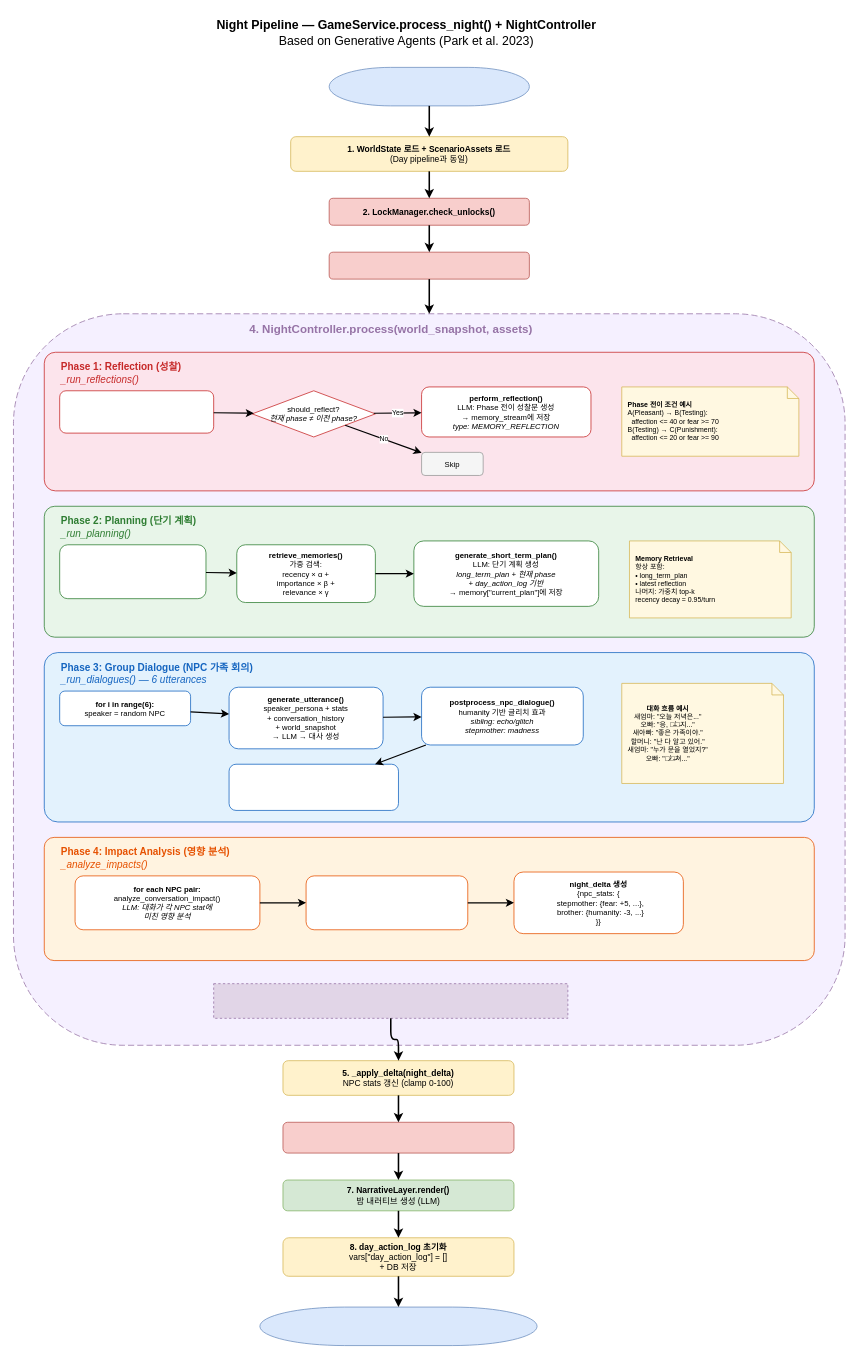
Some shapes in this 859 by 1359 pixel diagram are drawn without their labels. Here are the shapes that lost their labels. From the top down, the centre of each, then its label:
(x=428, y=86): POST /v1/game/{id}/night NightRequestBody
(x=428, y=265): 3. StatusEffectManager.tick()
(x=136, y=411): for each NPC: determine_current_phase (npc.phases, npc.stats)
(x=132, y=571): format_agenda_items day_action_log 분석 [치명적]/[위험] 태깅 (NPC triggers 기반)
(x=313, y=786): store_dialogue_memories() 모든 NPC memory_stream에 대화 기록 저장 type: MEMORY_DIALOGUE
(x=386, y=902): parse_stat_changes_text() 동적 regex 파싱 stat_names 기반 → npc_stats delta 누적
(x=390, y=1000): → NightResult { night_delta, night_conversation, night_description }
(x=398, y=1137): 6. EndingChecker.check() 밤 이후 엔딩 조건 확인
(x=398, y=1326): Return NightResponseResult { narrative, world_state, ending_info }
